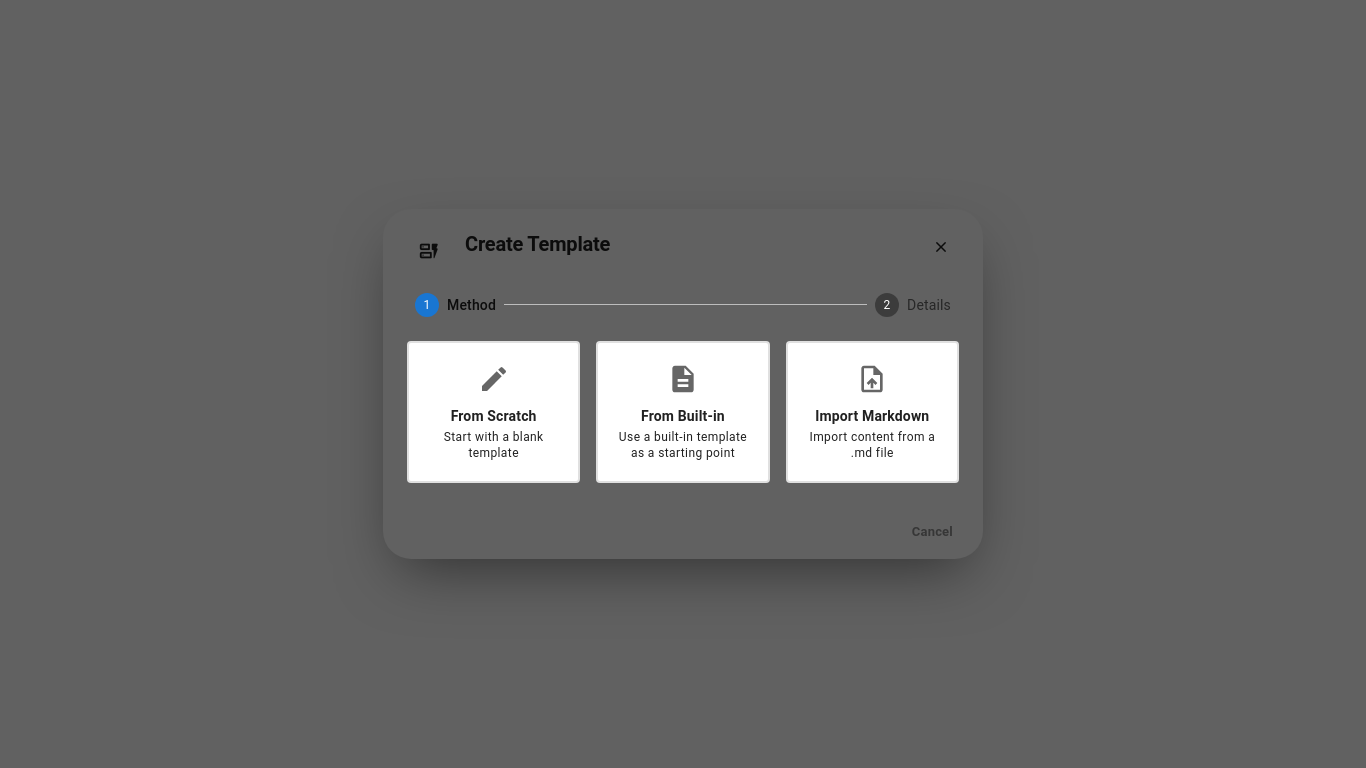
it: CreateTemplateWizard › shows the saving label while loading
Click the text "From Scratch" at (494, 416), box [451,406,537,426]
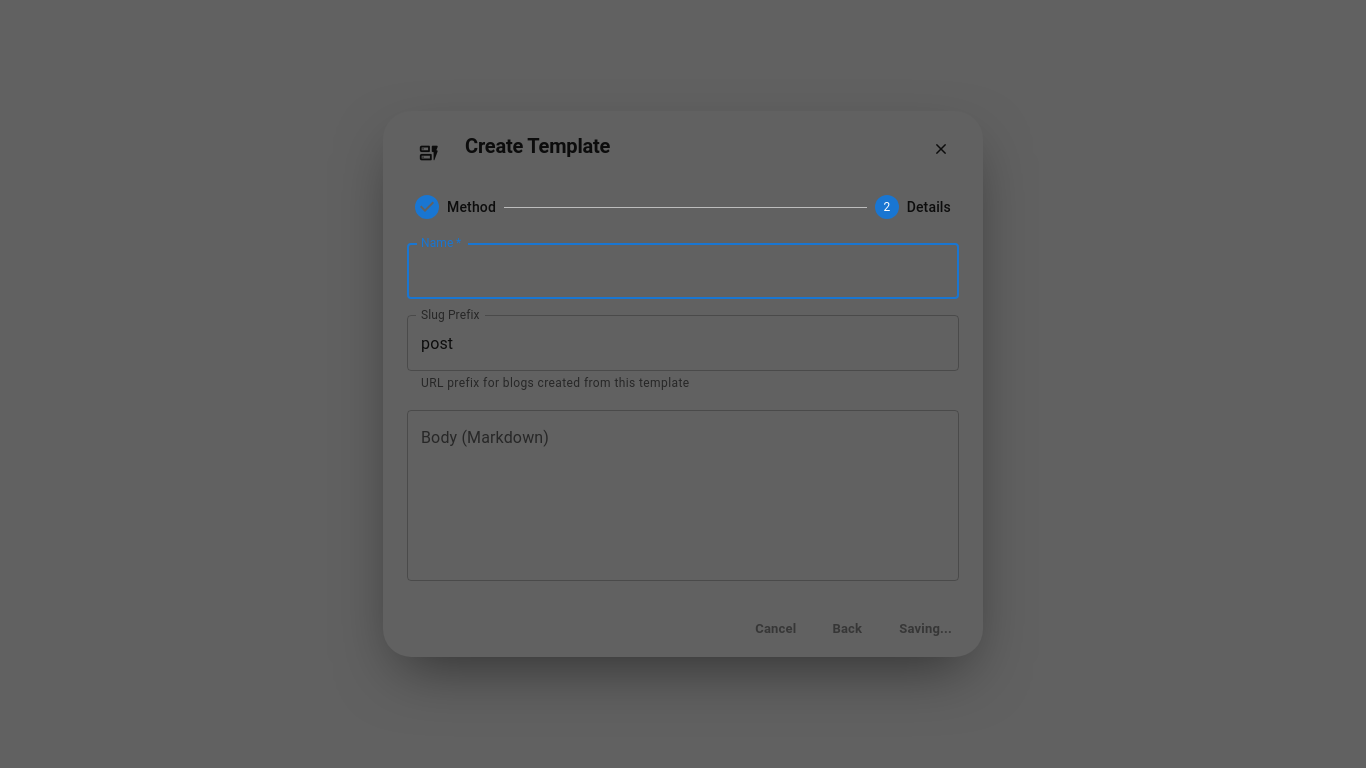
Now the button "Saving..." is disabled, box [884,613,967,645]
